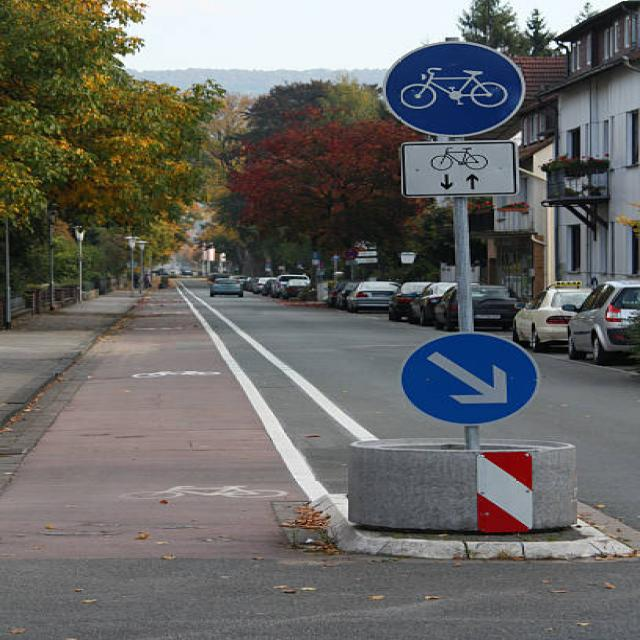bicycle: (371, 30, 544, 139)
